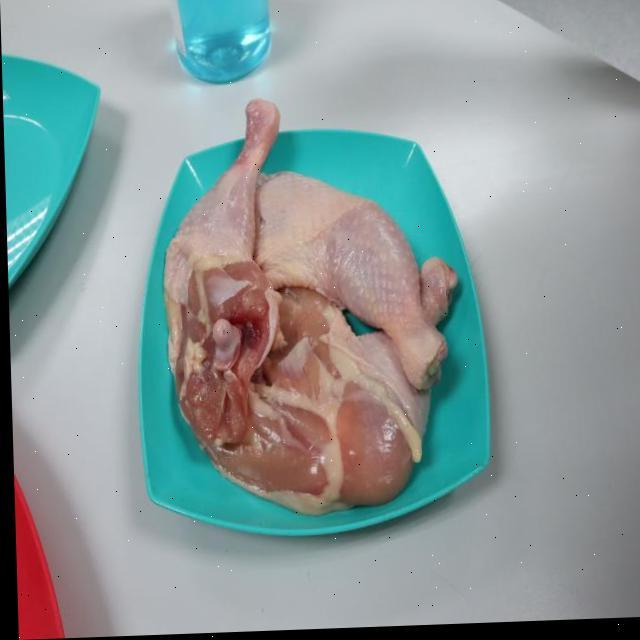quater: (266, 264, 494, 508), (242, 166, 446, 390), (158, 102, 278, 390)
